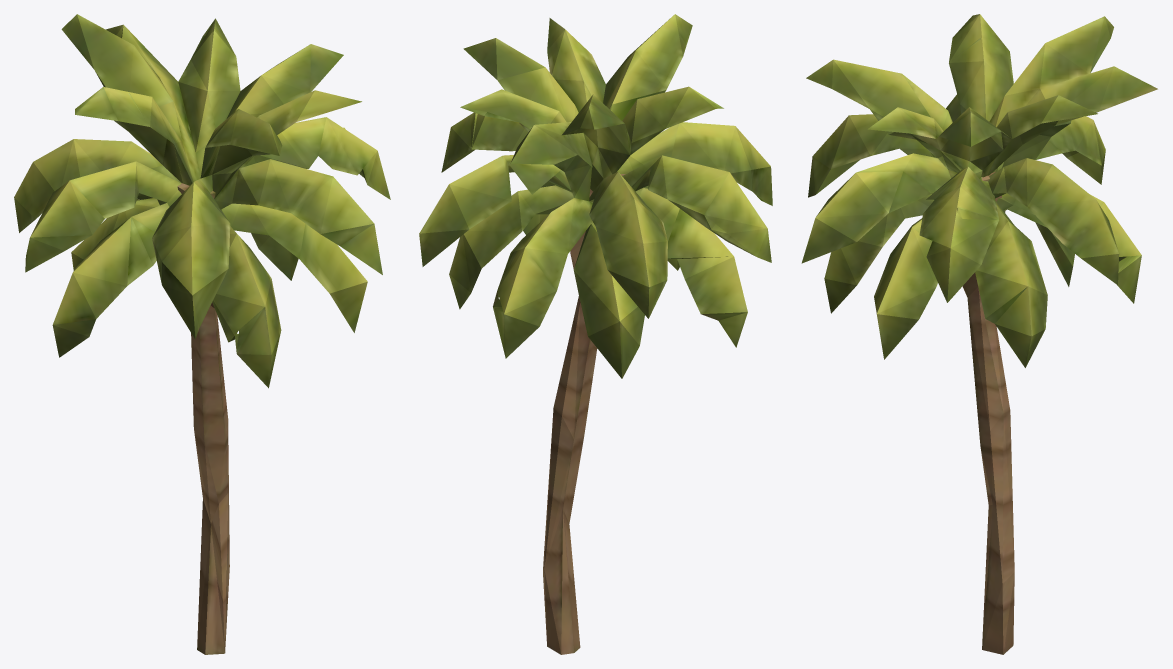
Rendered from palm_a_far.glb.
3 views of the same model, side by side, from view 1: azimuth 30°, elevation 25°; view 2: azimuth 150°, elevation 25°; view 3: azimuth 270°, elevation 25° (orthographic). The views are drawn at different scales.
Parts seen in each view (by area): view 1: body; view 2: body; view 3: body.
Part boxes in pixels (x1,y1,x2,y2): body: (14, 14, 390, 654); body: (419, 14, 772, 654); body: (801, 14, 1157, 654).
Size of the model in its own units: 5.14 by 8.56 by 4.66.
Materials: 2 (2 with a texture image).
